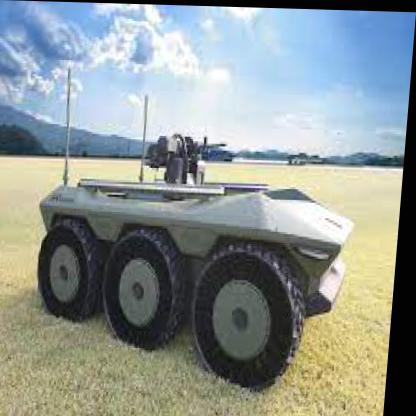UGV: (31, 130, 363, 391)
